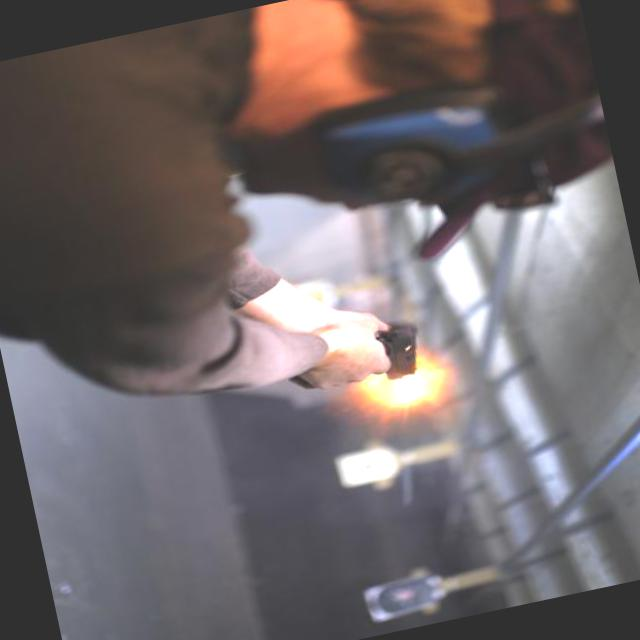handgun: (279, 316, 427, 402)
